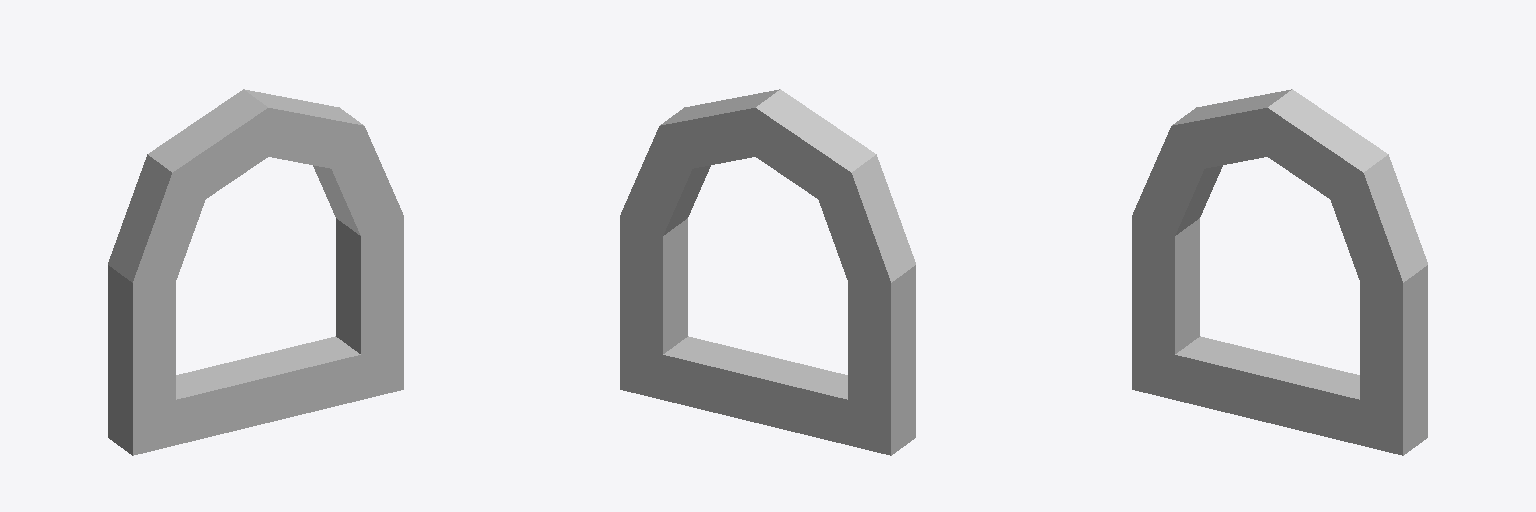
Rendered from window-white-round-low.obj.
3 renders of one model, left to right at view 1: azimuth 30°, elevation 25°; view 2: azimuth 150°, elevation 25°; view 3: azimuth 330°, elevation 25°, orthographic.
Parts seen in each view (by area): view 1: window-white-round-low; view 2: window-white-round-low; view 3: window-white-round-low.
Part boxes in pixels (x1,y1,x2,y2): window-white-round-low: (108, 89, 403, 455); window-white-round-low: (620, 89, 915, 455); window-white-round-low: (1132, 89, 1427, 455).
Size of the model in its own units: 0.3125 by 0.3462 by 0.05.